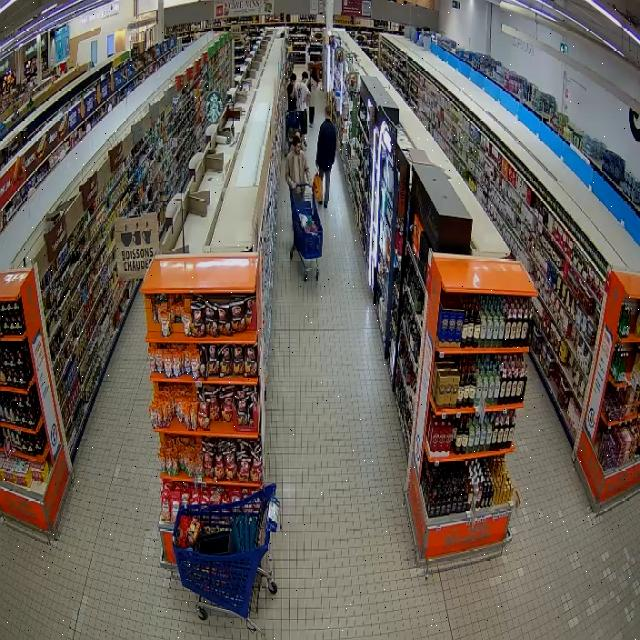bags: (314, 172, 322, 202)
hands: (307, 179, 313, 188), (291, 182, 297, 187)
person: (315, 104, 336, 207), (286, 136, 311, 199)
